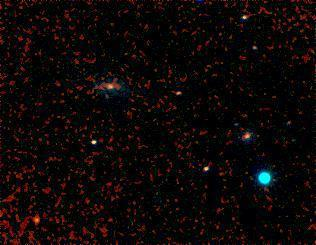star: (20, 205, 50, 235)
